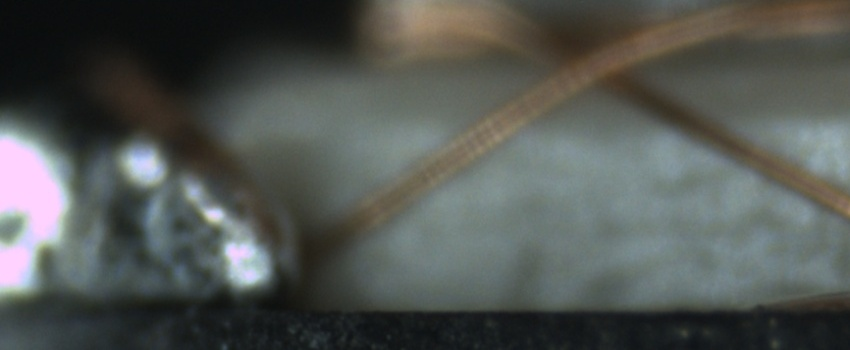CL: (558, 43, 647, 101)
DL: (584, 101, 850, 160)
